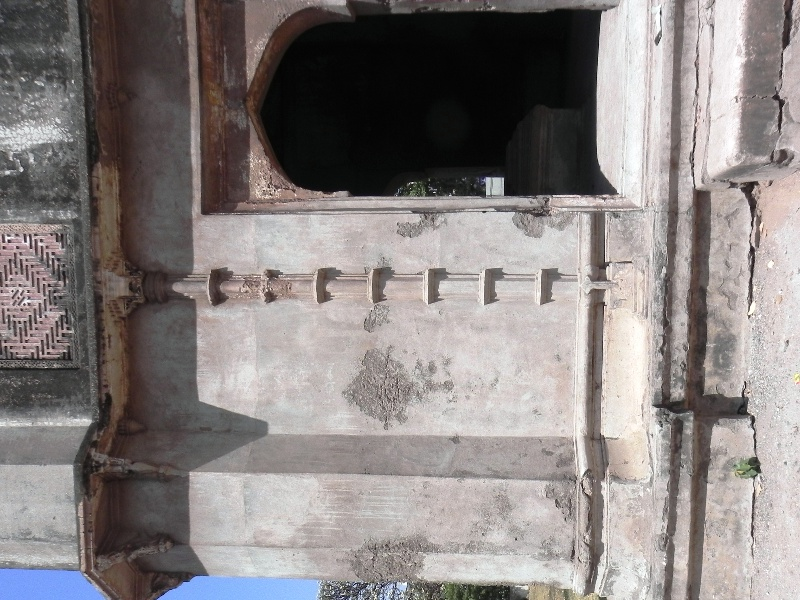Spalling: (348, 347, 428, 426), (346, 537, 435, 581), (544, 471, 601, 514), (511, 203, 574, 235), (398, 208, 458, 236), (364, 306, 390, 328)
